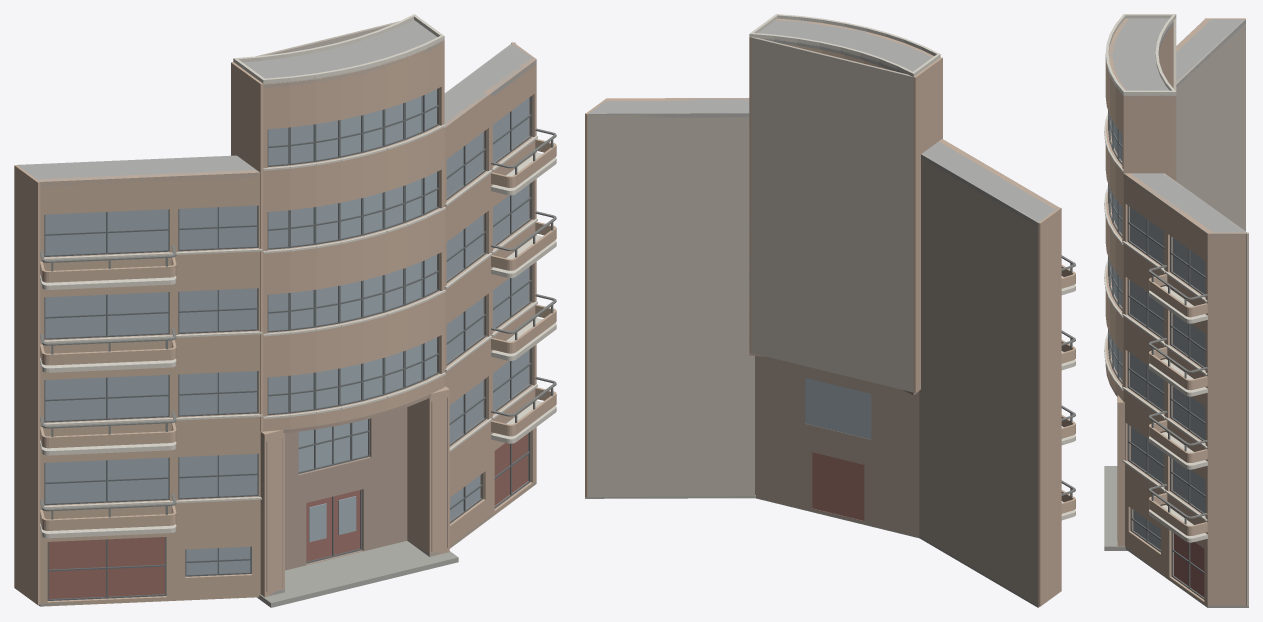
The model's file is xuhui-amyron-apartments-street-front-lod.glb.
The picture shows the model from 3 angles, left to right: view 1: azimuth 30°, elevation 25°; view 2: azimuth 150°, elevation 25°; view 3: azimuth 270°, elevation 25°; orthographic projection. The views are drawn at different scales.
Visible parts, largest first — view 1: 高安公寓转角弧窗与通高门廊; view 2: 高安公寓转角弧窗与通高门廊; view 3: 高安公寓转角弧窗与通高门廊.
Boxes of the visible parts, left/top/right/bottom form: 高安公寓转角弧窗与通高门廊: left=14, top=14, right=556, bottom=607; 高安公寓转角弧窗与通高门廊: left=585, top=14, right=1075, bottom=607; 高安公寓转角弧窗与通高门廊: left=1104, top=14, right=1248, bottom=607.
Bounding box in the file's own units: 21.35 × 20.57 × 5.9.
